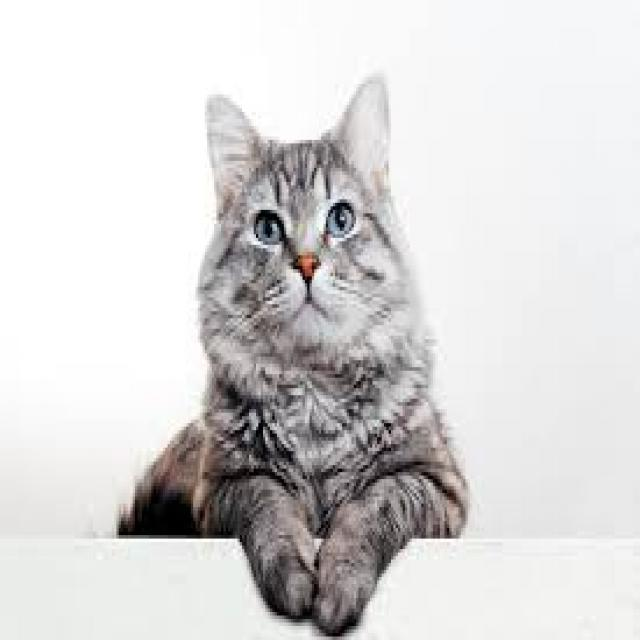Cat: (108, 67, 478, 638)
